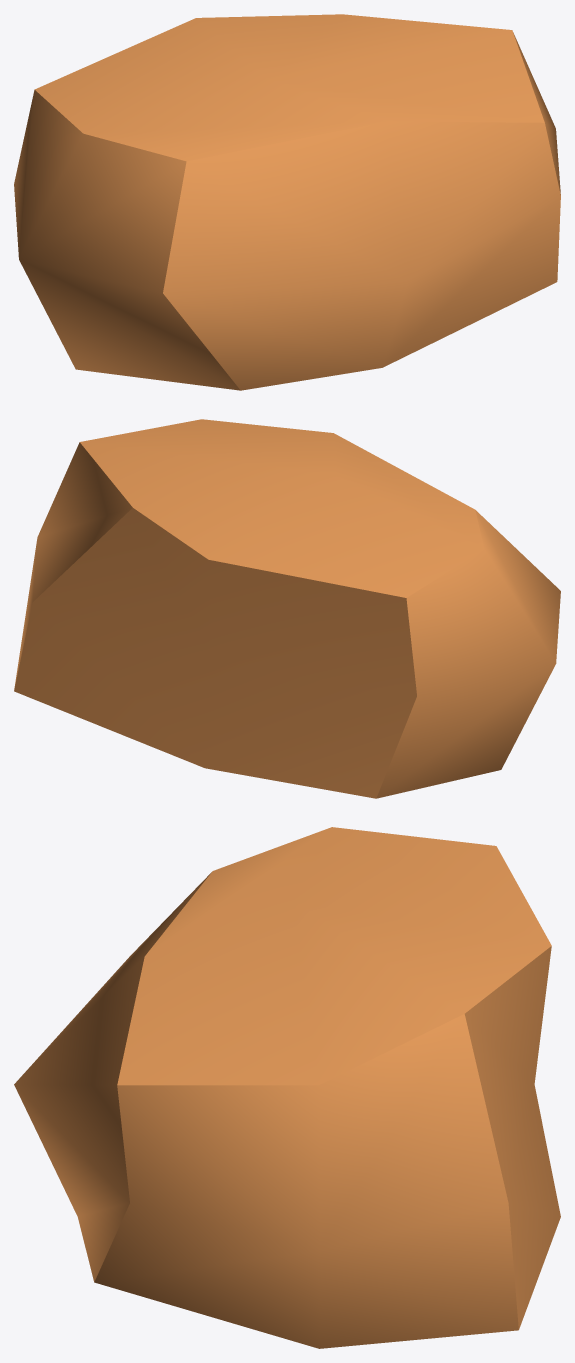
The model's file is Rock_4.FBX.
3 views of the same model, one above another, from view 1: azimuth 30°, elevation 25°; view 2: azimuth 150°, elevation 25°; view 3: azimuth 270°, elevation 25° (orthographic). The views are drawn at different scales.
Visible parts, largest first — view 1: Rock 4; view 2: Rock 4; view 3: Rock 4.
Part boxes in pixels (x1,y1,x2,y2): Rock 4: [14, 14, 560, 390]; Rock 4: [14, 419, 560, 798]; Rock 4: [14, 827, 560, 1348].
Bounding box in the file's own units: 37.18 × 17.17 × 25.81.
